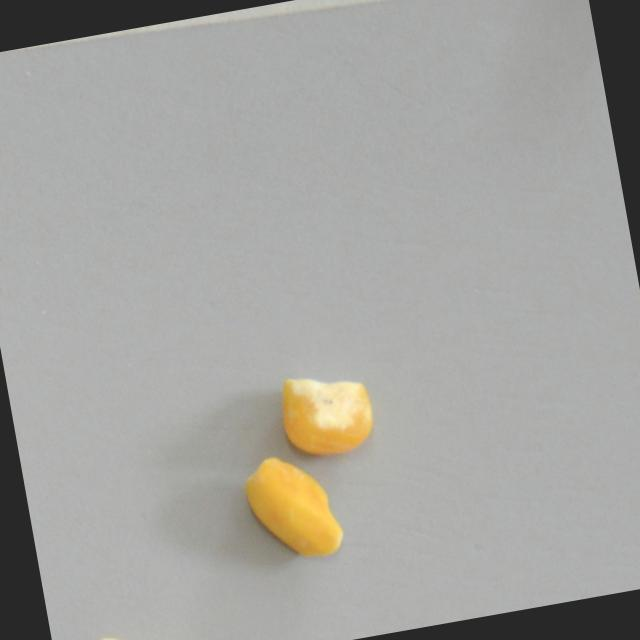dañado: (236, 445, 348, 569)
pelicula: (67, 619, 180, 640)
punto_negro: (270, 360, 382, 466)
